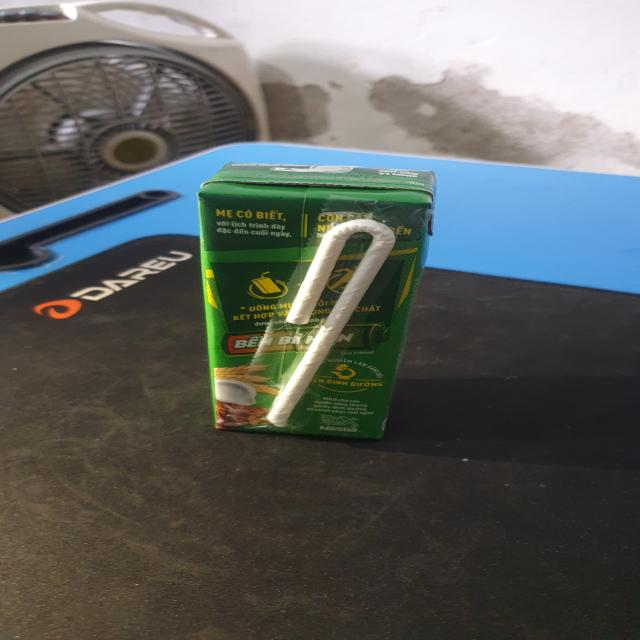Milo: (196, 159, 441, 445)
